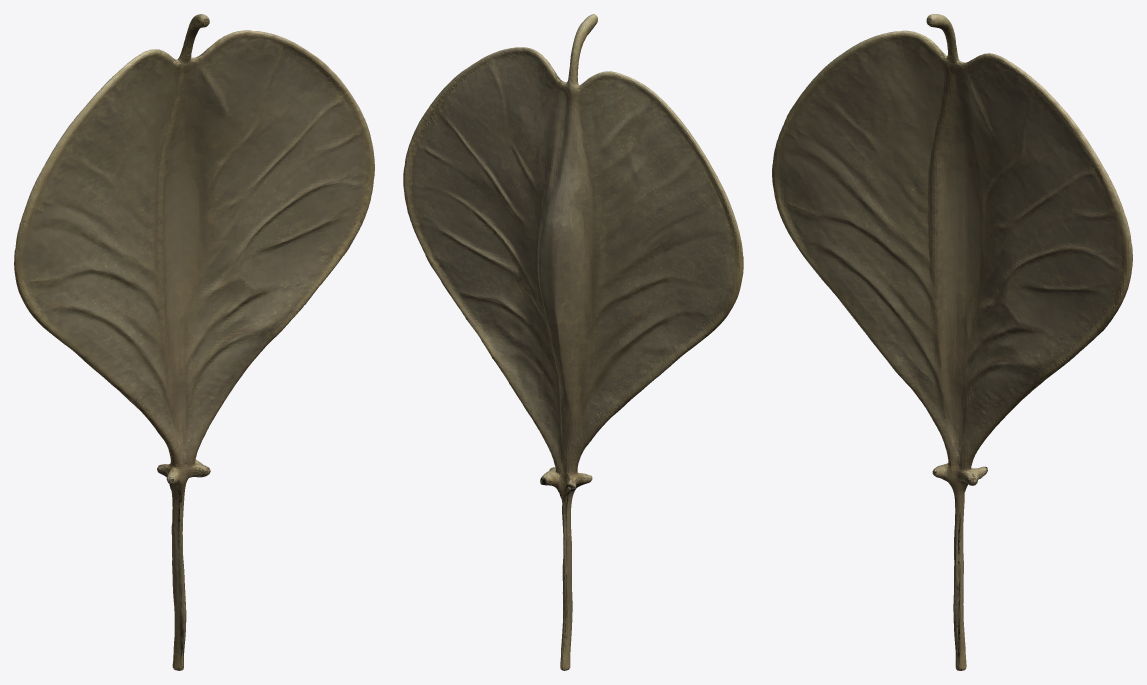
3 renders of one model, left to right at view 1: azimuth 30°, elevation 25°; view 2: azimuth 150°, elevation 25°; view 3: azimuth 330°, elevation 25°, orthographic. The views are drawn at different scales.
Parts seen in each view (by area): view 1: world; view 2: world; view 3: world.
Boxes of the visible parts, x1,y1,x2,y2 form: world: (14,14,374,670); world: (403,14,743,670); world: (772,14,1132,670).
Size of the model in its own units: 0.0195 by 0.035 by 0.00387.
1 material, 1 textured.
